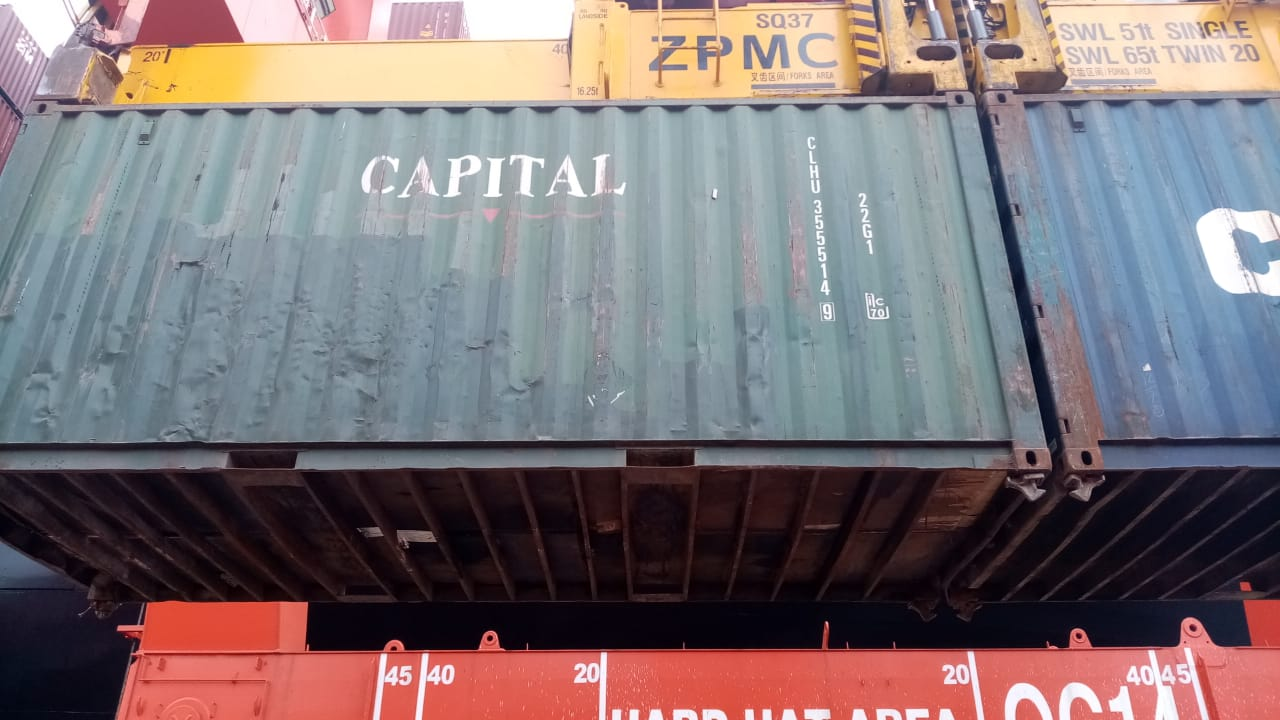dented: (47, 252, 571, 439)
